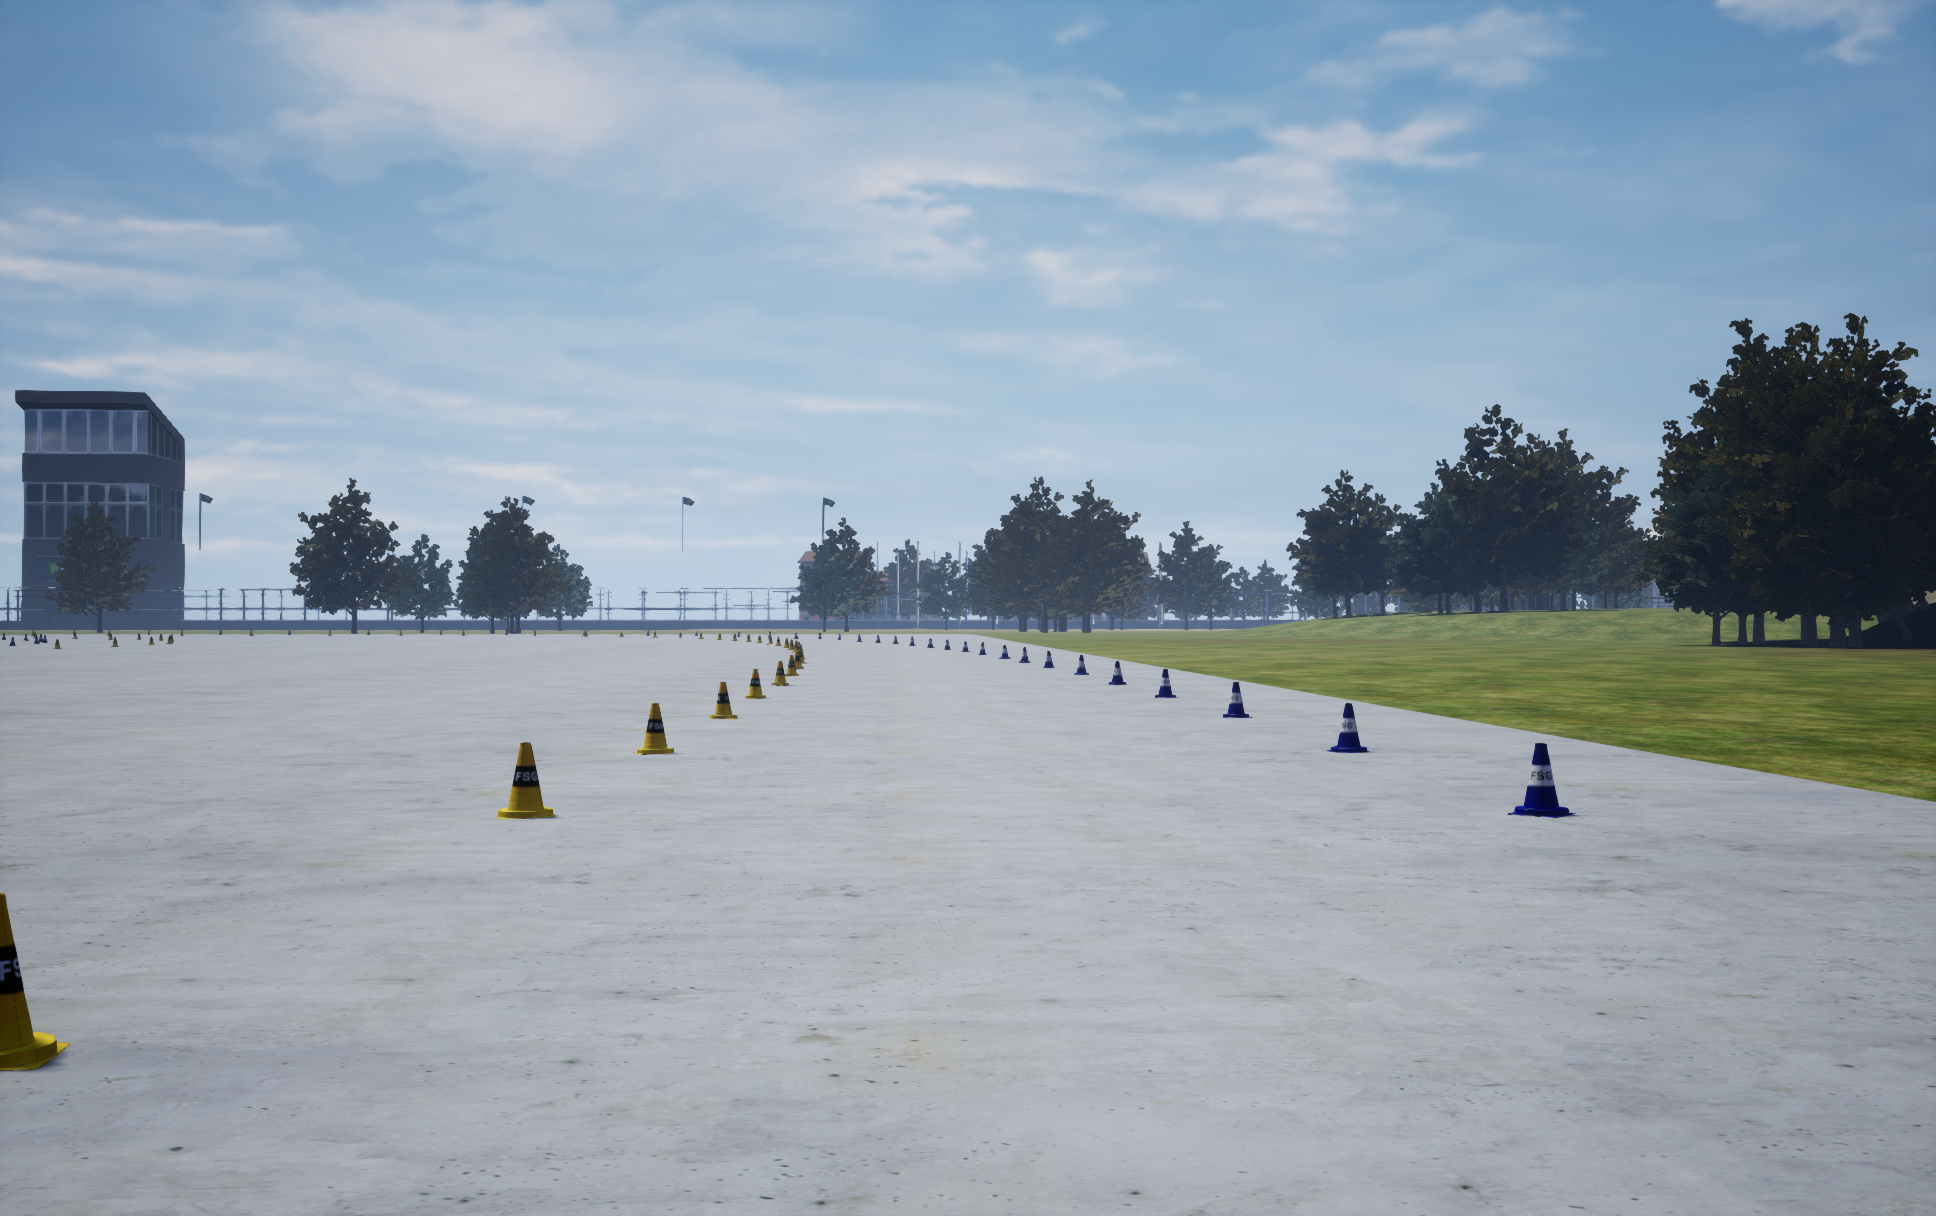blue: (0, 892, 69, 1070), (496, 742, 553, 818), (633, 703, 677, 754), (709, 682, 737, 719), (745, 670, 765, 698), (770, 661, 789, 685), (784, 656, 798, 675)
yellow: (1507, 742, 1575, 817), (1327, 703, 1369, 752), (1223, 682, 1252, 717), (1154, 670, 1175, 698), (1108, 661, 1126, 684), (1074, 656, 1088, 674), (1044, 651, 1053, 667)
